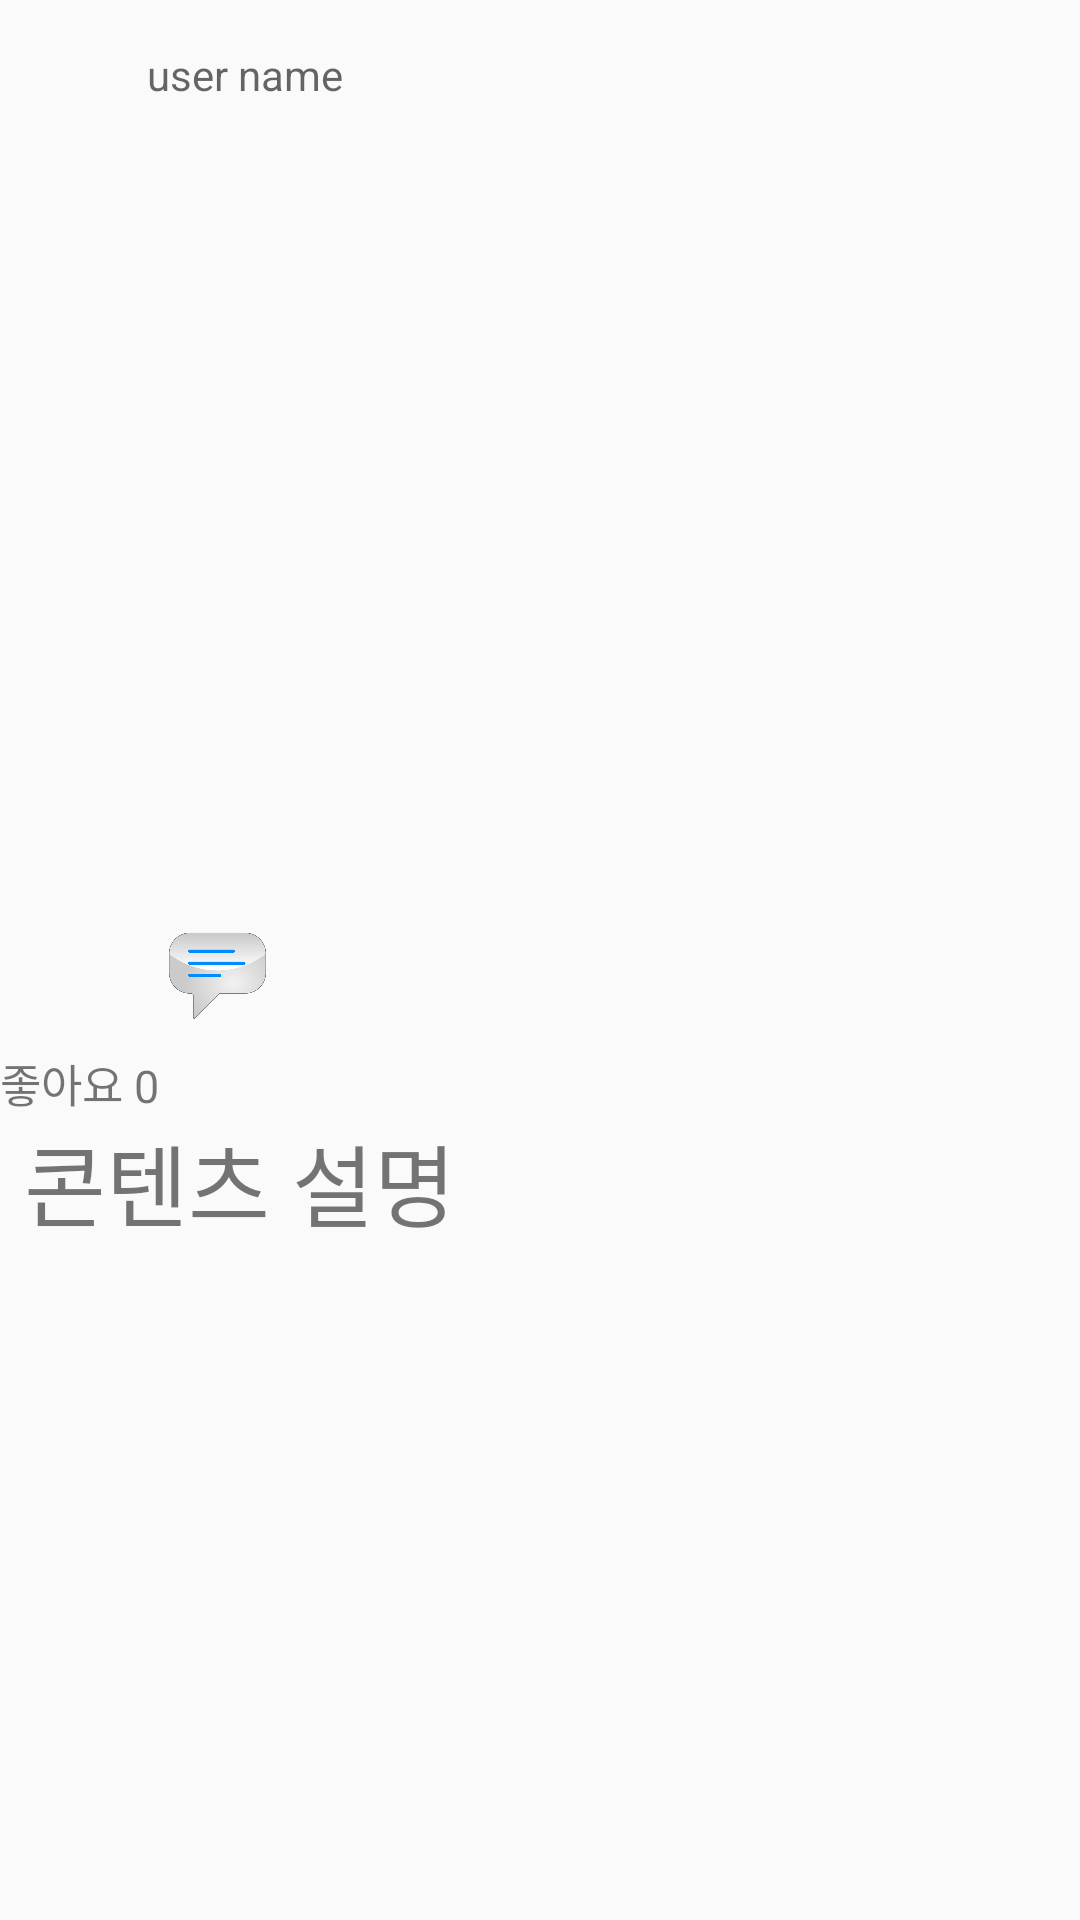

Named icons in this screenshot (1080px×1920px) and their centers, [x,y]:
commentbutton: [217,976]
